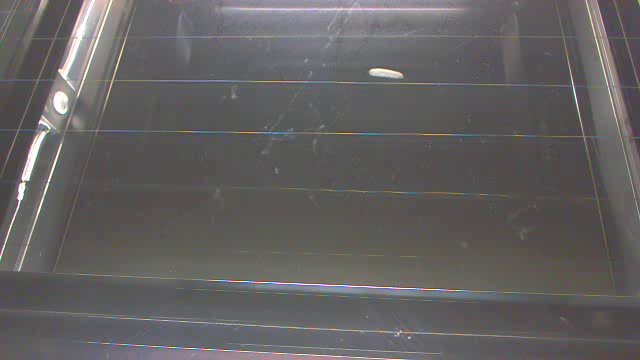alpha: (369, 68, 403, 79)
